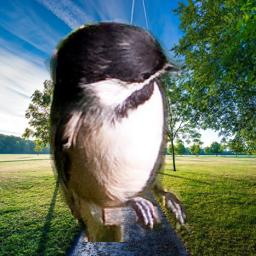Swallow: (44, 15, 196, 242)
